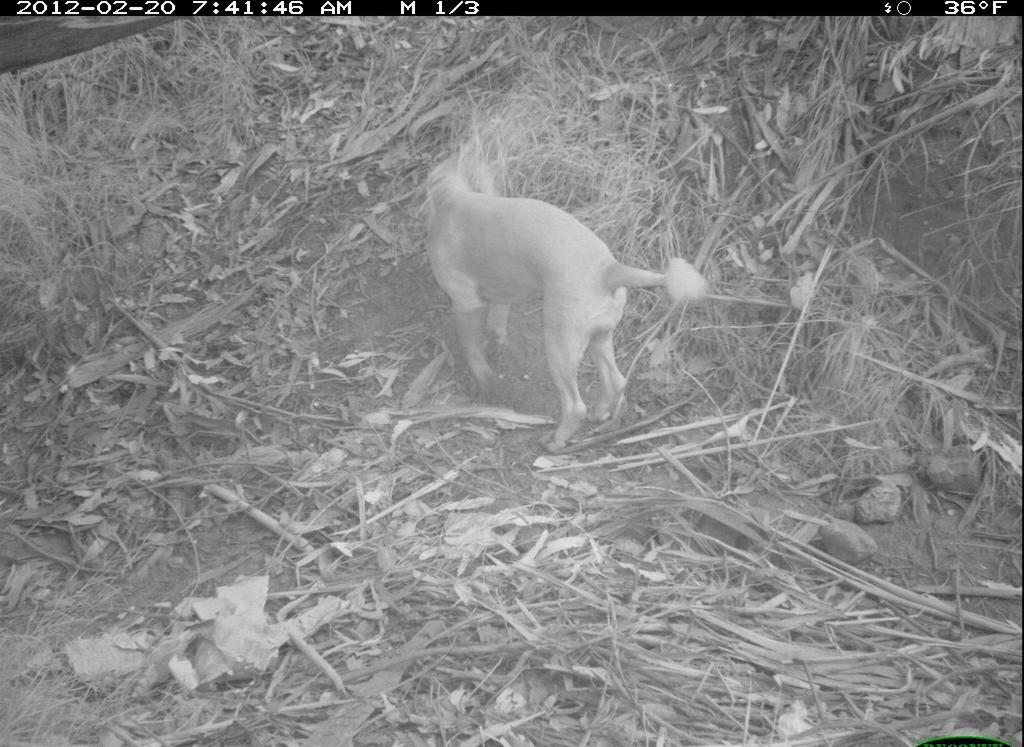dog: (405, 134, 713, 463)
